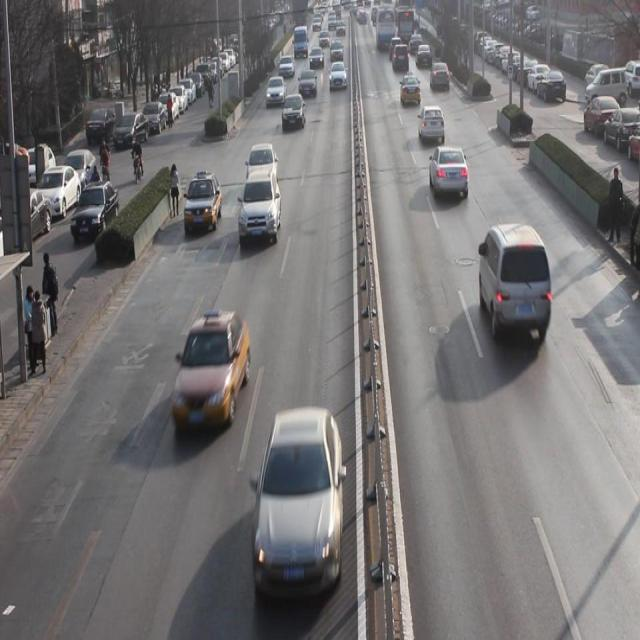car: (254, 412, 344, 592), (175, 314, 250, 440), (238, 175, 281, 249), (184, 175, 222, 237), (429, 147, 469, 205), (247, 145, 278, 189), (418, 106, 446, 145), (282, 94, 305, 135), (399, 75, 422, 109)
truck: (478, 225, 554, 352)
